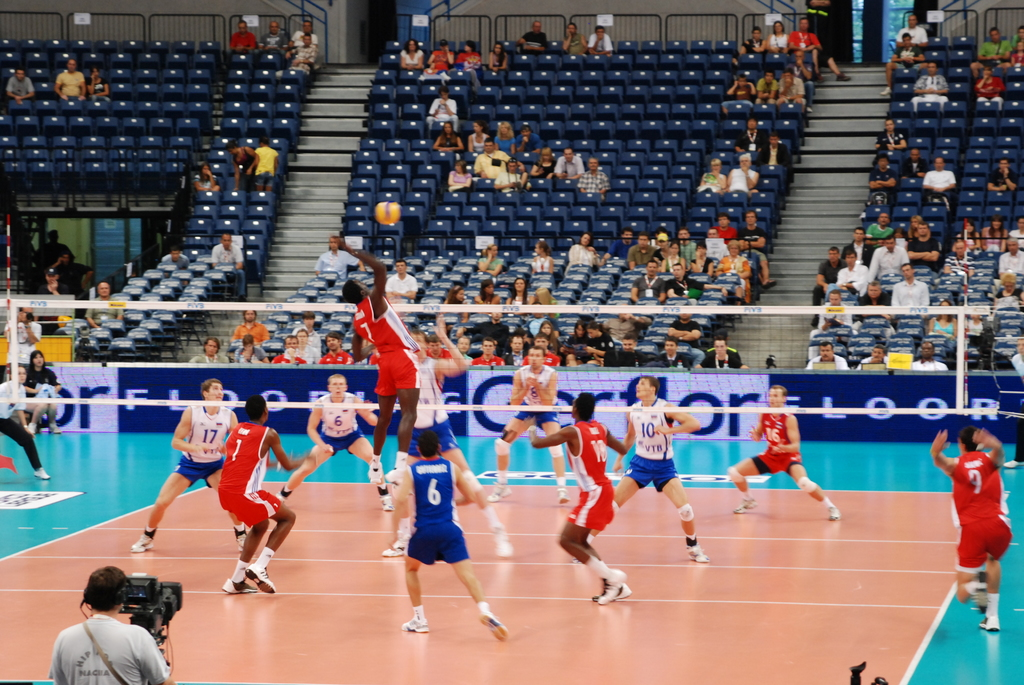Ball: (376, 201, 402, 227)
